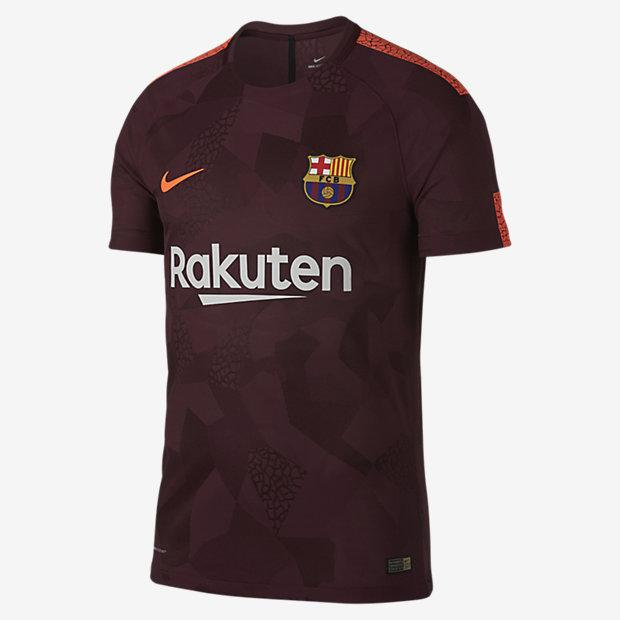teeshirt: (102, 12, 523, 610)
